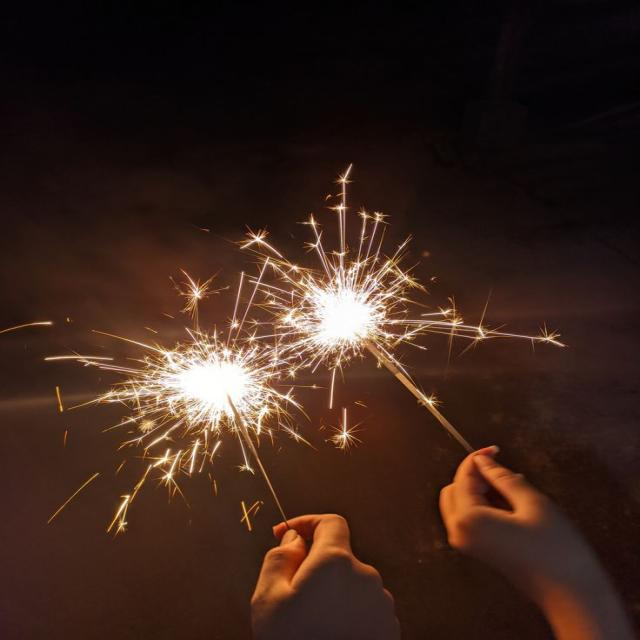fire: (291, 286, 381, 346), (180, 356, 259, 412)
